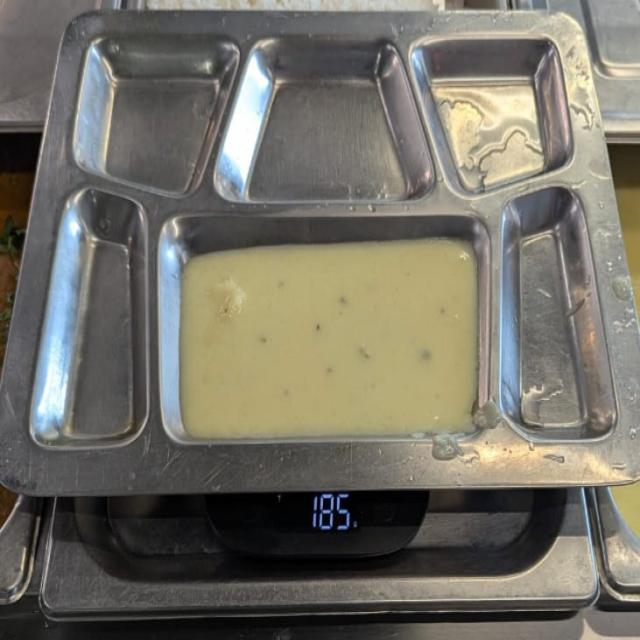Phirni: (176, 228, 485, 439)
